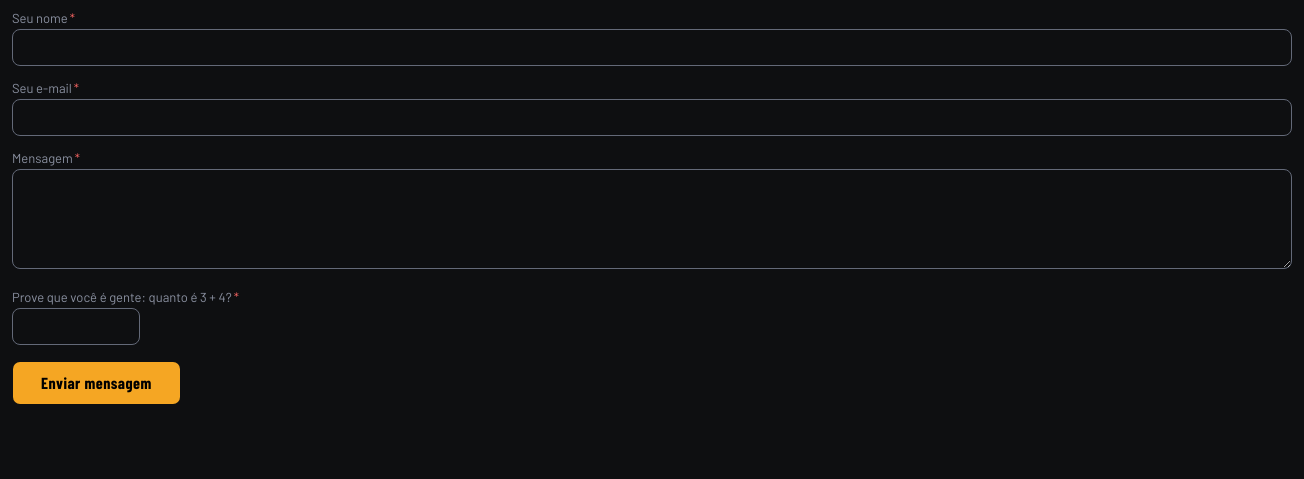
formulário de contato › envia com o token e a resposta da charada e mostra confirmação
The width and height of the screenshot is (1304, 479).
Type "Ana Souza" into the field labelled "Seu nome *" at point(652, 48), box [12,29,1292,66]
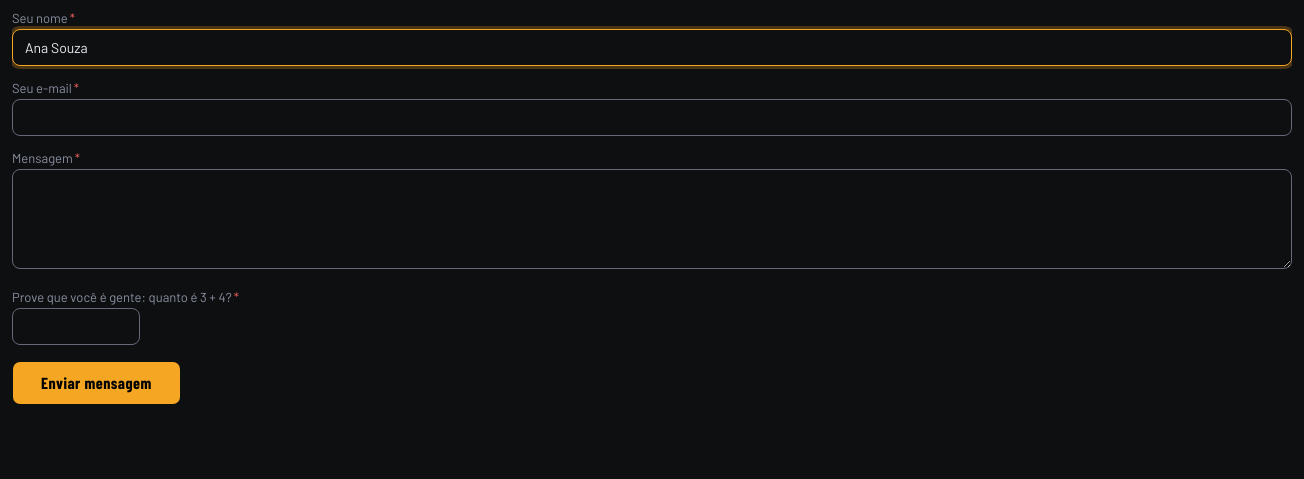
Type "ana@exemplo.com" into the field labelled "Seu e-mail *" at point(652, 118), box [12,99,1292,136]
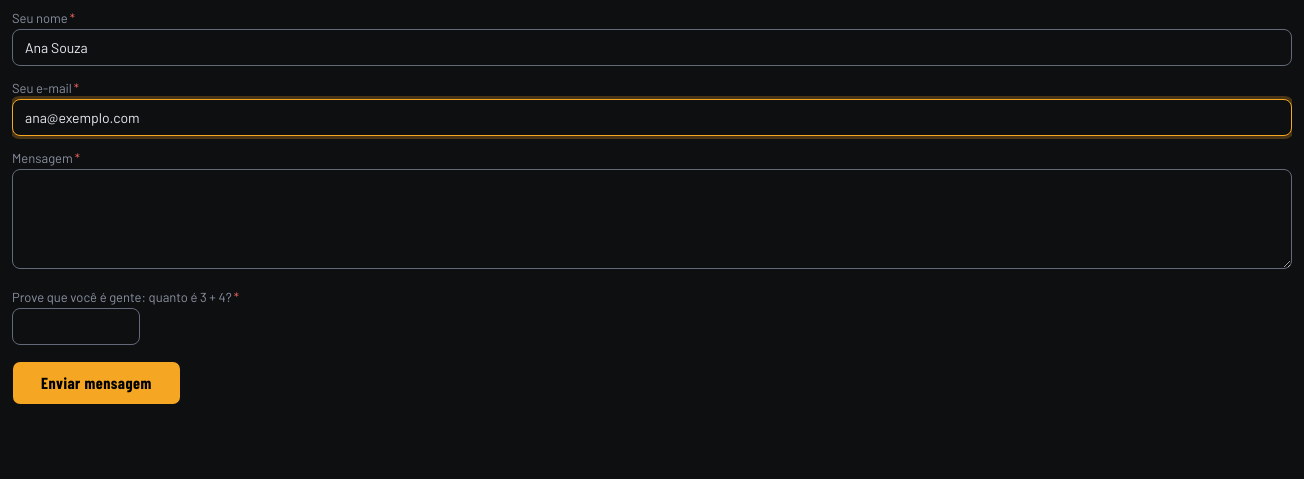
Type "Quero conhecer." into the text box labelled "Mensagem *" at point(652, 219), box [12,169,1292,269]
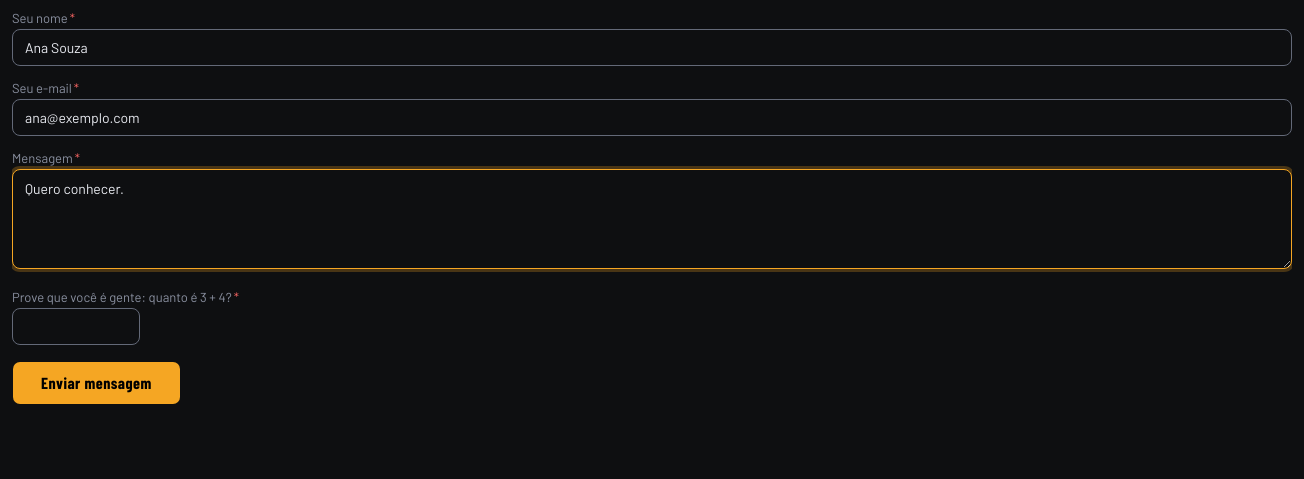
Type "7" into the field labelled "Prove que você é gente: quanto é 3 + 4? *" at point(76, 326), box [12,308,140,345]
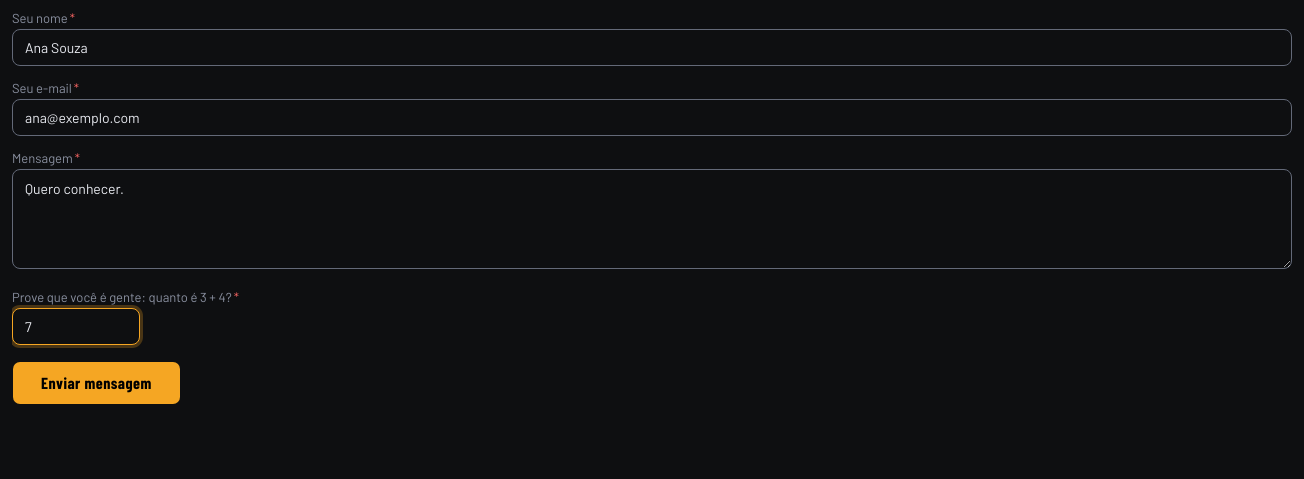
Click the button "Enviar mensagem" at point(96, 383), box [12,361,181,405]
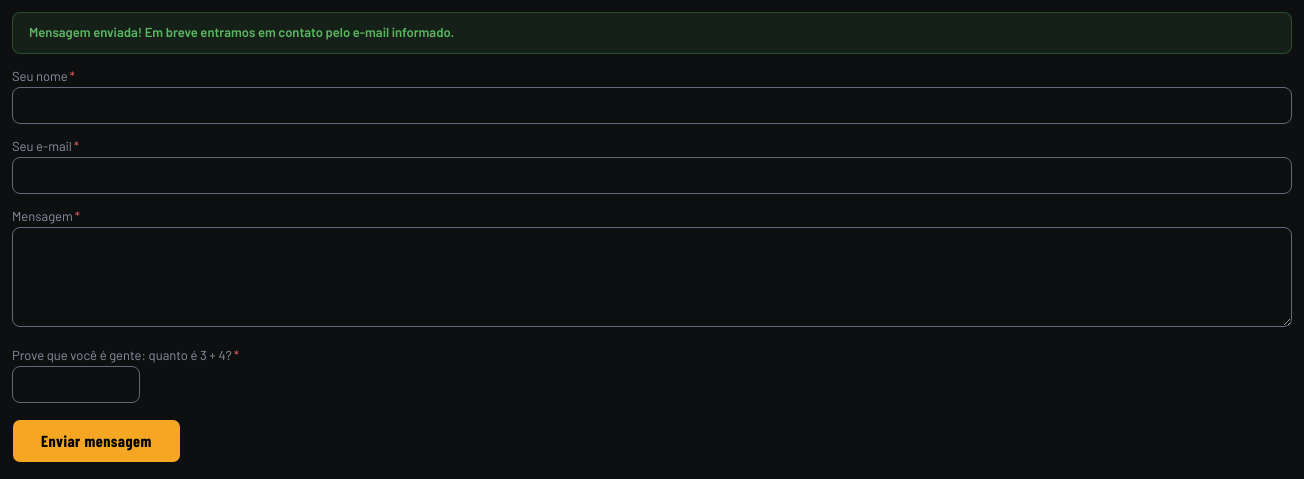
Now the text "Mensagem enviada" is shown, box [29,24,454,40]
